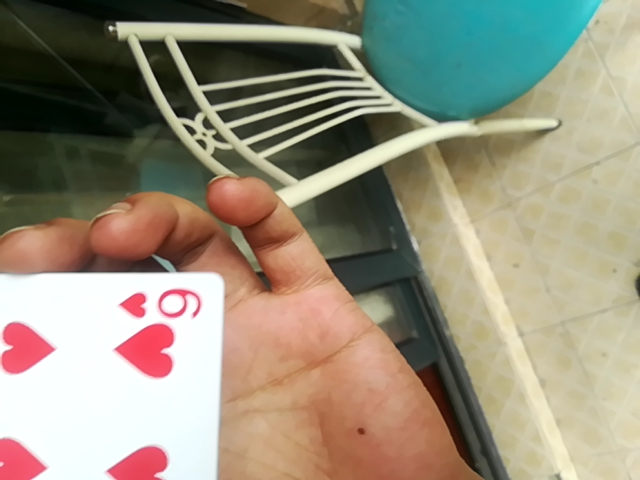hx 6: (0, 261, 224, 478)
